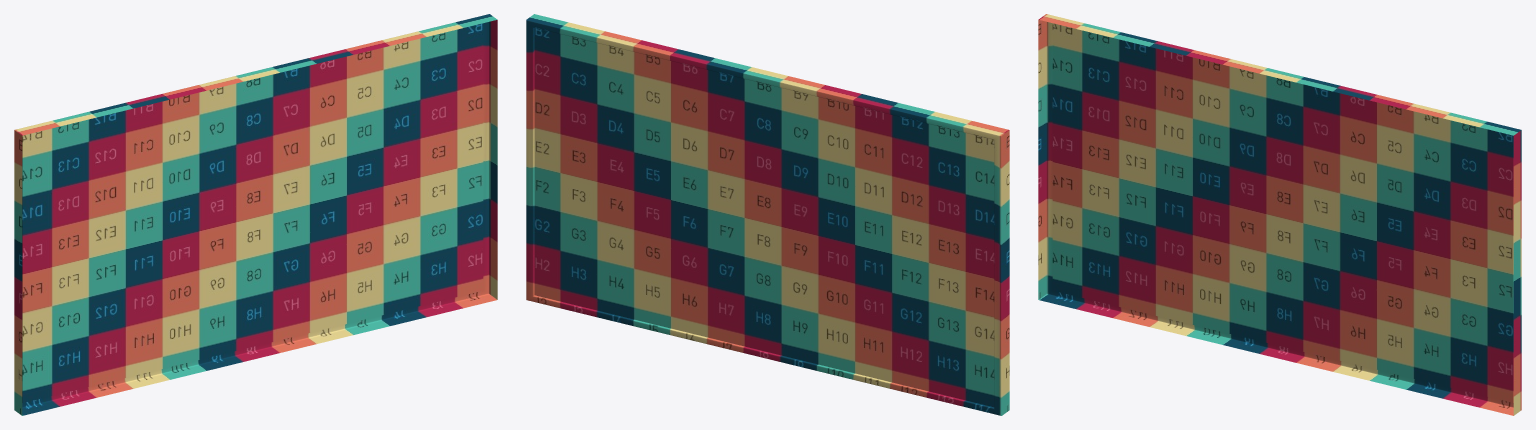
File: whiteboard.fbx
3 renders of one model, left to right at view 1: azimuth 30°, elevation 25°; view 2: azimuth 150°, elevation 25°; view 3: azimuth 330°, elevation 25°, orthographic.
Visible parts, largest first — view 1: whiteboard; view 2: whiteboard; view 3: whiteboard.
Part boxes in pixels (x1,y1,x2,y2): whiteboard: (14, 14, 497, 415); whiteboard: (526, 14, 1009, 415); whiteboard: (1038, 14, 1521, 415).
Size of the model in its own units: 121 by 68.23 by 3.68.
